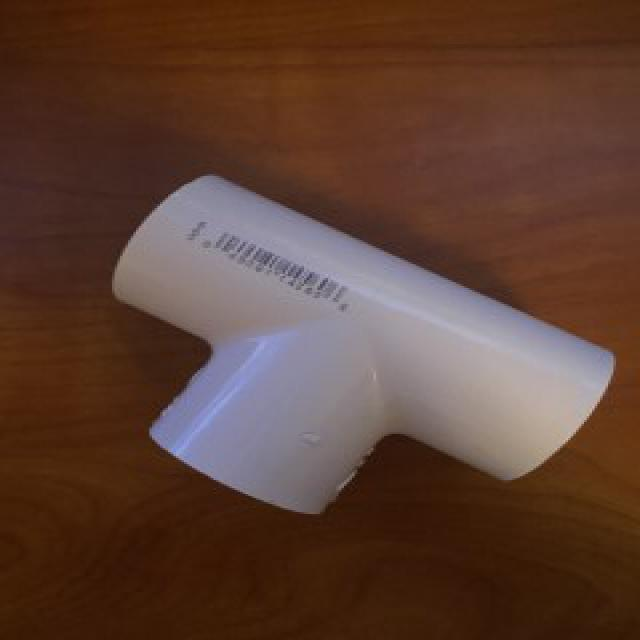T Joint: (109, 174, 617, 519)
